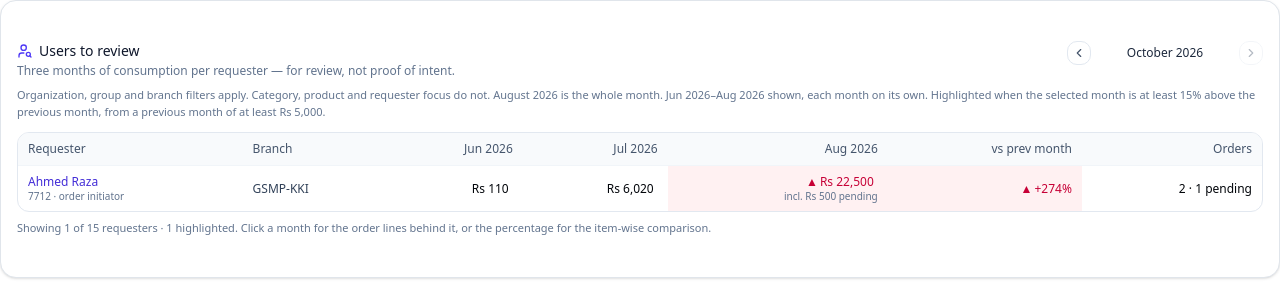
the request › steps back a month and asks again; the current month is the ceiling
Check: the button named "Next month" is disabled, box [1239,41,1263,65]
What coordinates should you click on to do the following:
click the button named "Previous month"
I would click on:
 (1079, 53)
Its box is [1067,41,1091,65].
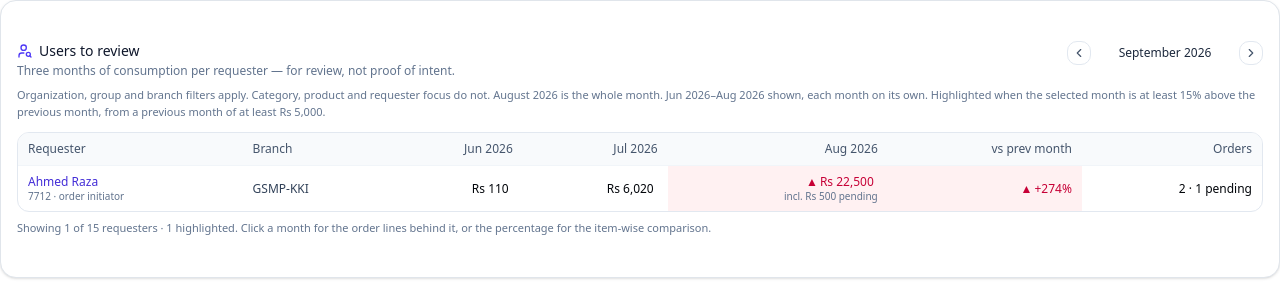
Check: the button named "Next month" is enabled, box [1239,41,1263,65]
